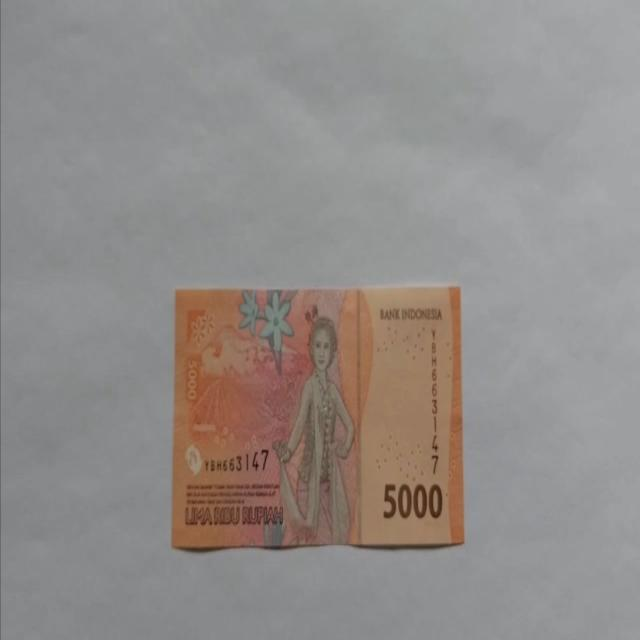lima ribu rupiah: (171, 284, 464, 552), (271, 314, 356, 546)
